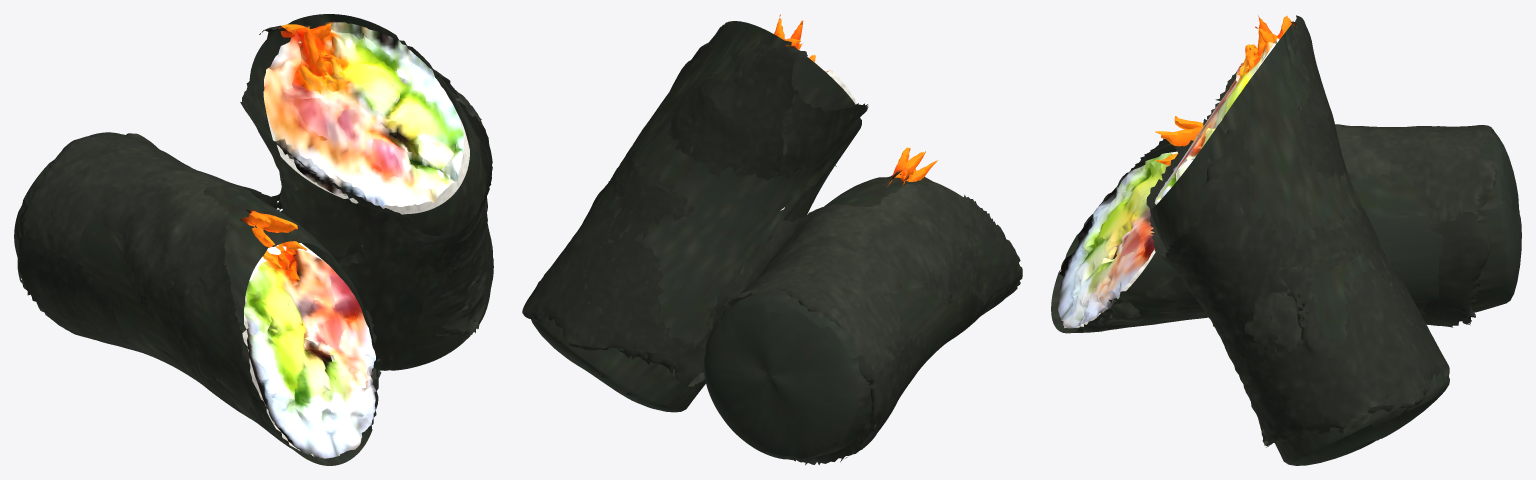
File: sushi_burrito.glb
3 renders of one model, left to right at view 1: azimuth 30°, elevation 25°; view 2: azimuth 150°, elevation 25°; view 3: azimuth 270°, elevation 25°, orthographic. The views are drawn at different scales.
Parts seen in each view (by area): view 1: ing_nori, ing_rice, ing_carrot, ing_avocado, ing_cucumber, ing_ahiTuna, ing_sprouts, ing_chiliMayo, ing_unagiSauce; view 2: ing_nori, ing_carrot; view 3: ing_nori, ing_rice, ing_carrot, ing_avocado, ing_cucumber, ing_sprouts, ing_chiliMayo, ing_ahiTuna.
Part boxes in pixels (box(x1,y1,x2,y2)): ing_nori: box(14, 14, 493, 465); ing_rice: box(242, 22, 469, 458); ing_carrot: box(239, 21, 382, 323); ing_avocado: box(265, 47, 442, 374); ing_cucumber: box(249, 33, 456, 407); ing_ahiTuna: box(289, 80, 402, 348); ing_sprouts: box(251, 33, 454, 410); ing_chiliMayo: box(287, 43, 395, 354); ing_unagiSauce: box(295, 128, 422, 367); ing_nori: box(522, 21, 1022, 465); ing_carrot: box(774, 14, 937, 187); ing_nori: box(1051, 15, 1521, 465); ing_rice: box(1058, 26, 1283, 328); ing_carrot: box(1140, 15, 1295, 257); ing_avocado: box(1099, 72, 1253, 246); ing_cucumber: box(1083, 159, 1176, 273); ing_sprouts: box(1083, 101, 1225, 277); ing_chiliMayo: box(1117, 81, 1235, 257); ing_ahiTuna: box(1121, 81, 1236, 257).
Bounding box in the file's own units: 0.1585 × 0.1455 × 0.16.
1 material, 1 textured.
